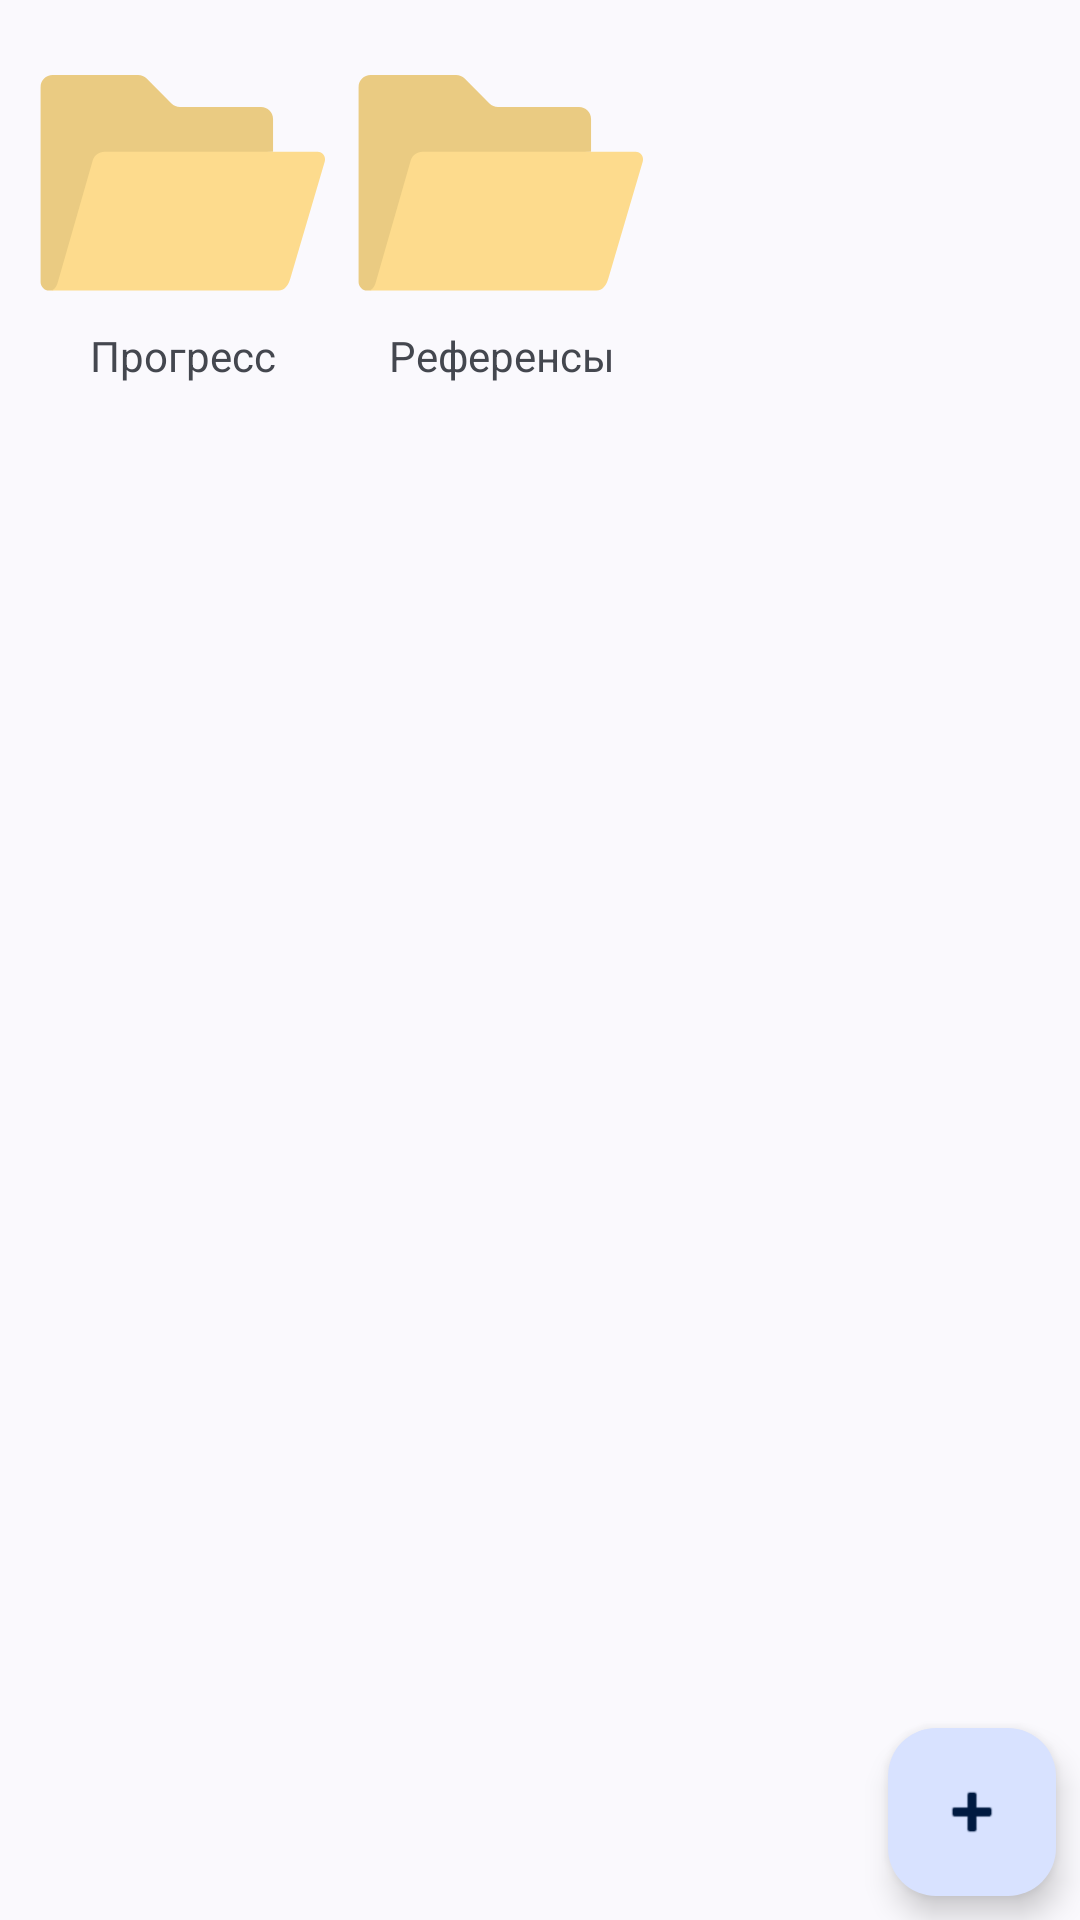

Icons on this 1080*1920 Android screen, each with the point to tap as point (x, y):
add: point (972, 1812)
folder: point (182, 183), point (500, 183)
